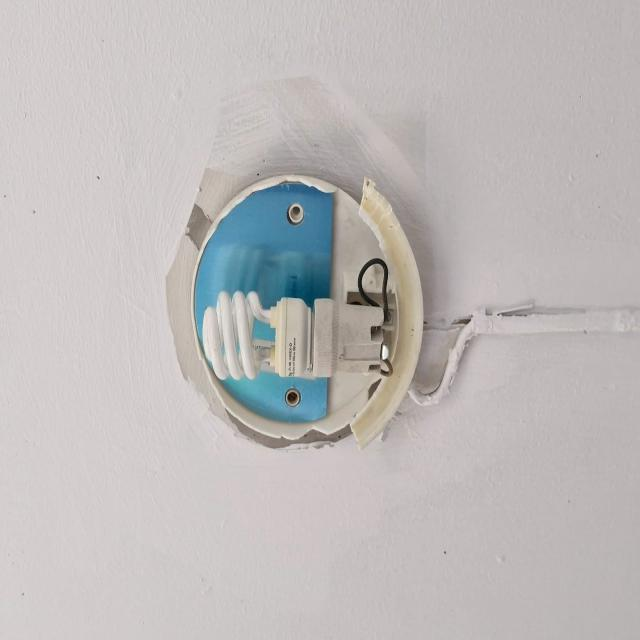bulb: (193, 291, 378, 380)
